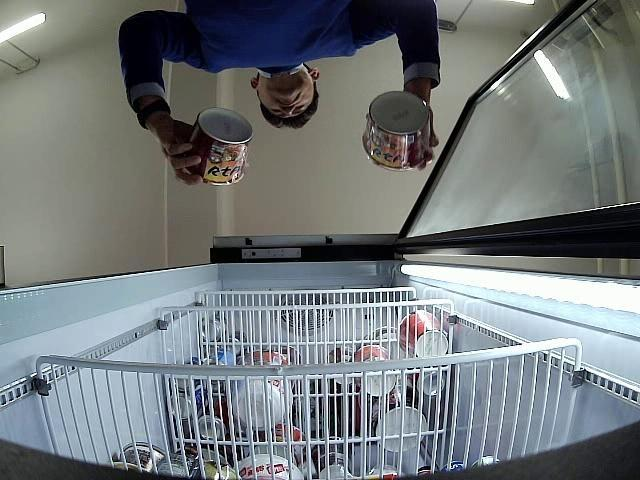05_nuguri_L: (361, 92, 430, 170), (185, 108, 252, 186)
